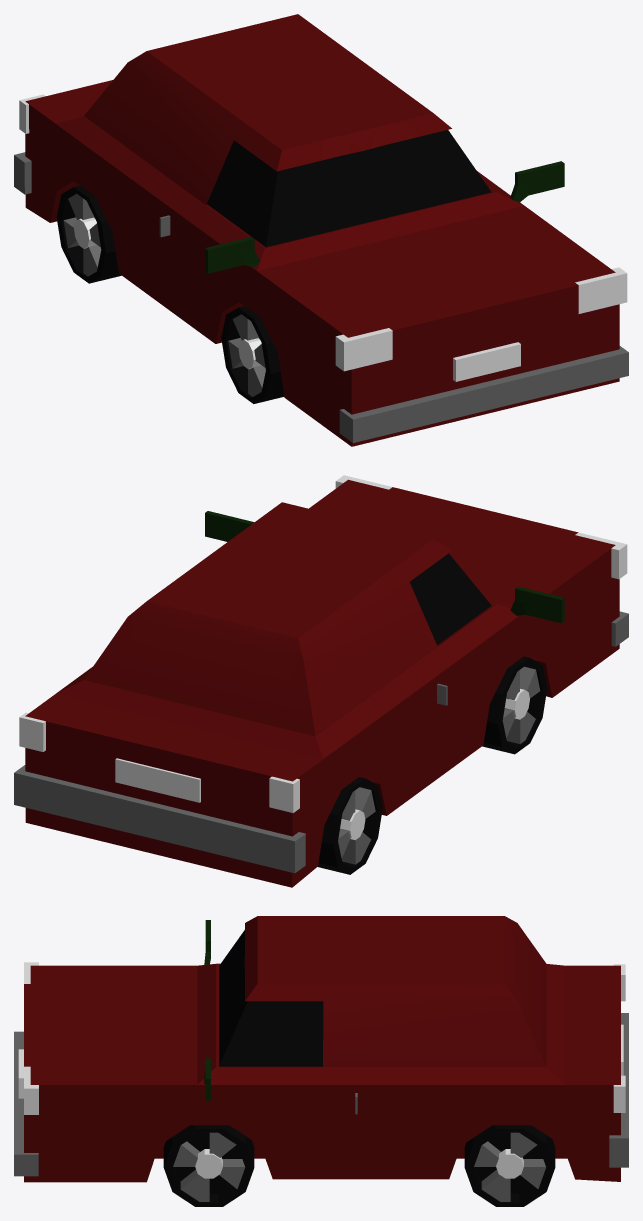
The model's file is toy car.fbx.
3 views of the same model, one above another, from view 1: azimuth 30°, elevation 25°; view 2: azimuth 150°, elevation 25°; view 3: azimuth 270°, elevation 25° (orthographic). The views are drawn at different scales.
Visible parts, largest first — view 1: Cube.001; view 2: Cube.001; view 3: Cube.001.
Part boxes in pixels (x1=…): Cube.001: x1=14, y1=14, x2=628, y2=446; Cube.001: x1=14, y1=475, x2=628, y2=887; Cube.001: x1=14, y1=916, x2=628, y2=1206.
Bounding box in the file's own units: 266 × 153 × 435.
